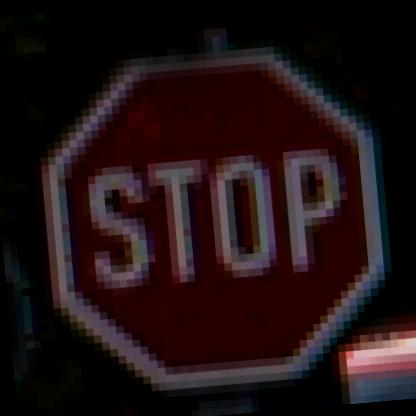stop: (14, 30, 414, 410)
